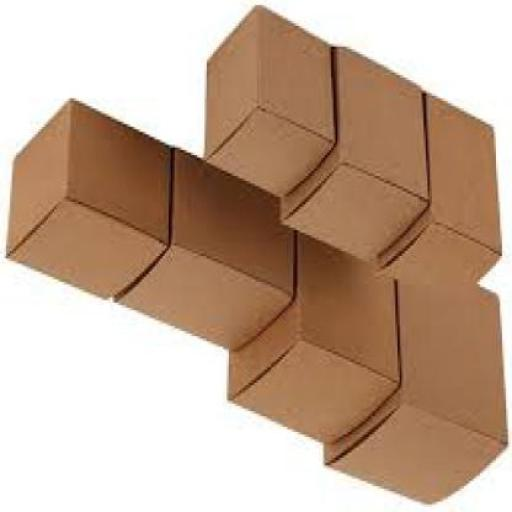cardboard: (328, 277, 510, 507), (229, 226, 401, 456), (115, 152, 299, 354), (8, 101, 173, 303), (284, 47, 431, 263), (380, 95, 504, 300), (207, 10, 337, 202)
